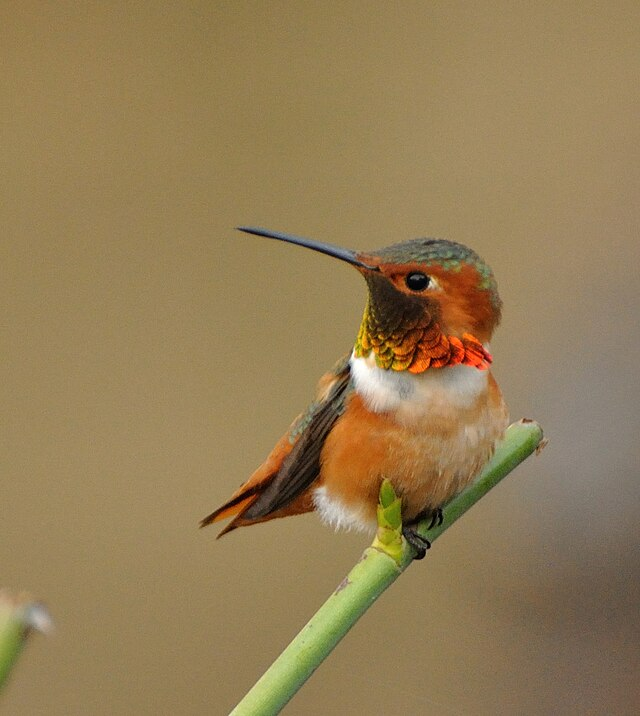selasphorus sasin: (196, 226, 501, 548)
